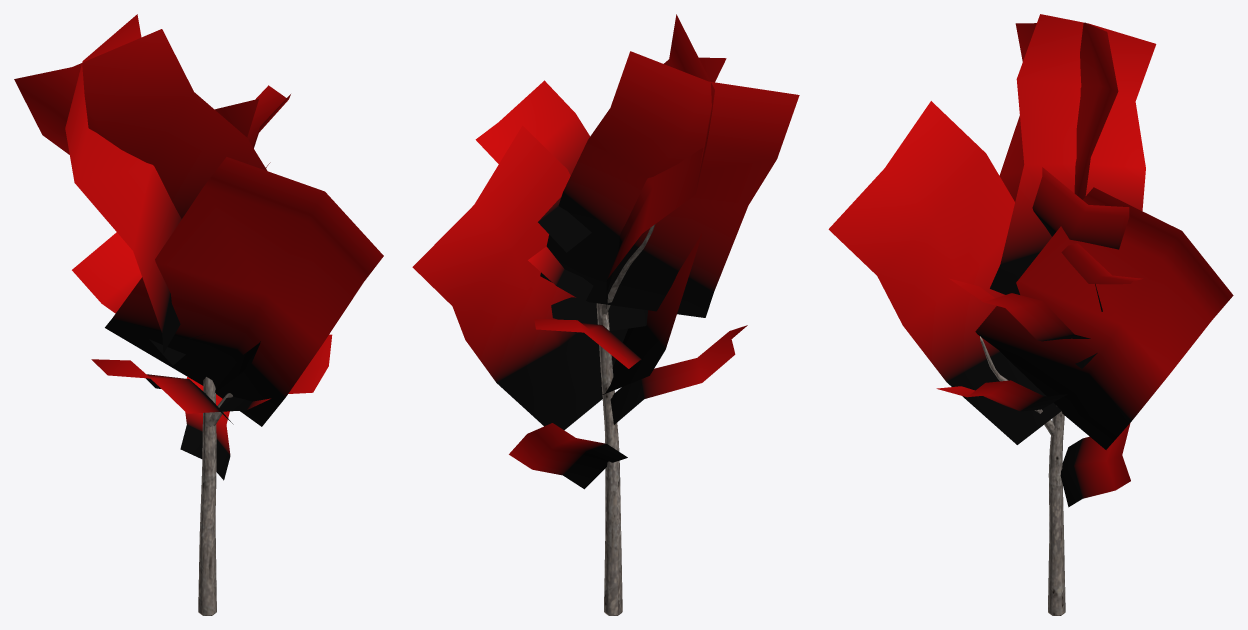
The model's file is SM_SaplingBeechGreen_1.fbx.
The picture shows the model from 3 angles, left to right: view 1: azimuth 30°, elevation 25°; view 2: azimuth 150°, elevation 25°; view 3: azimuth 270°, elevation 25°; orthographic projection. The views are drawn at different scales.
Parts seen in each view (by area): view 1: saplingBeech_treeGreen_1; view 2: saplingBeech_treeGreen_1; view 3: saplingBeech_treeGreen_1.
Boxes of the visible parts, x1,y1,x2,y2 form: saplingBeech_treeGreen_1: [14, 14, 383, 615]; saplingBeech_treeGreen_1: [412, 14, 799, 615]; saplingBeech_treeGreen_1: [828, 14, 1233, 615].
Bounding box in the file's own units: 2.33 × 4.96 × 3.17.
